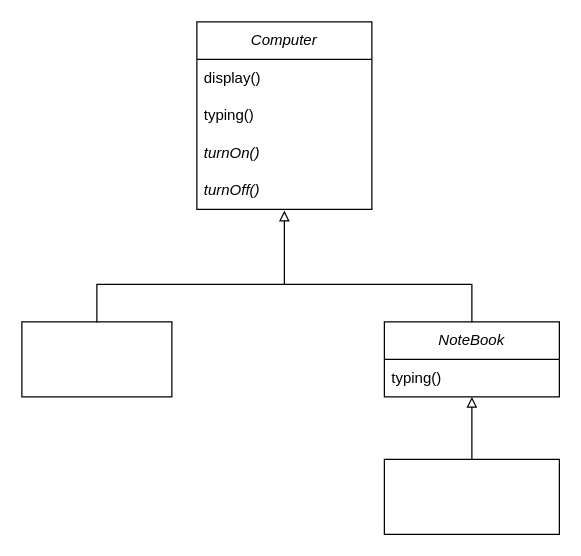
The diagram is 581 pixels wide and 556 high, and some of its shapes have lost their labels. The shapes that lost their labels are listed below. From the top down, each one's centre as x and y in pixels, then its label:
[96,359]: DeskTop
[471,496]: MyNoteBook
